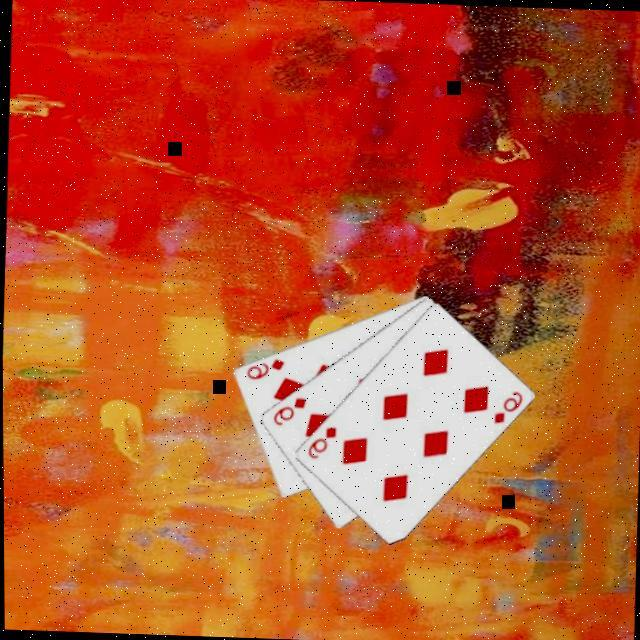6D: (301, 422, 336, 462), (487, 386, 522, 426), (267, 393, 306, 428)
9D: (240, 353, 285, 383)
